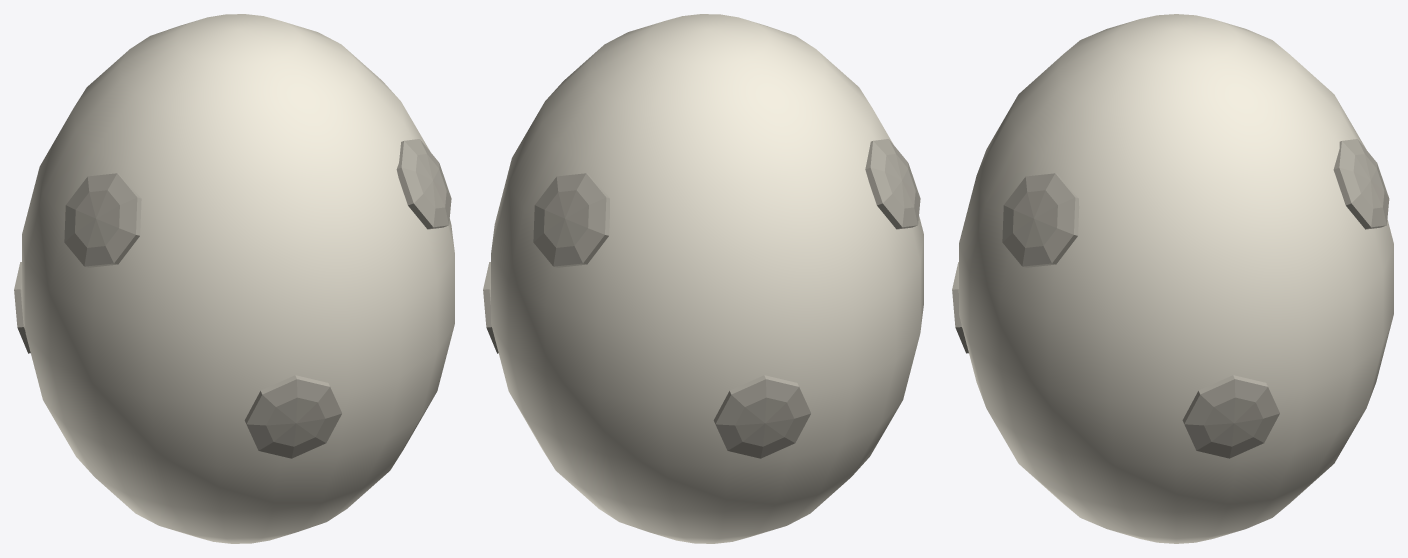
The model's file is Ovo_CommonEgg.fbx.
The picture shows the model from 3 angles, left to right: view 1: azimuth 30°, elevation 25°; view 2: azimuth 150°, elevation 25°; view 3: azimuth 270°, elevation 25°; orthographic projection.
Parts seen in each view (by area): view 1: Casca_CommonEgg; view 2: Casca_CommonEgg; view 3: Casca_CommonEgg.
Boxes of the visible parts, bbox=[...] form: Casca_CommonEgg: bbox=[14, 14, 454, 543]; Casca_CommonEgg: bbox=[483, 14, 923, 543]; Casca_CommonEgg: bbox=[952, 14, 1393, 543].
Bounding box in the file's own units: 1.61 × 2 × 1.61.
1 material, 1 textured.
